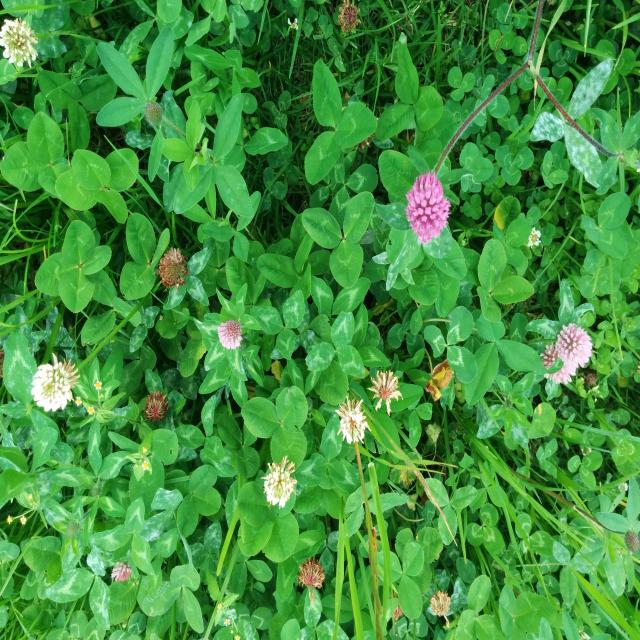Four Leaf Clover: (529, 326, 605, 420), (341, 78, 403, 172), (502, 426, 585, 492)
